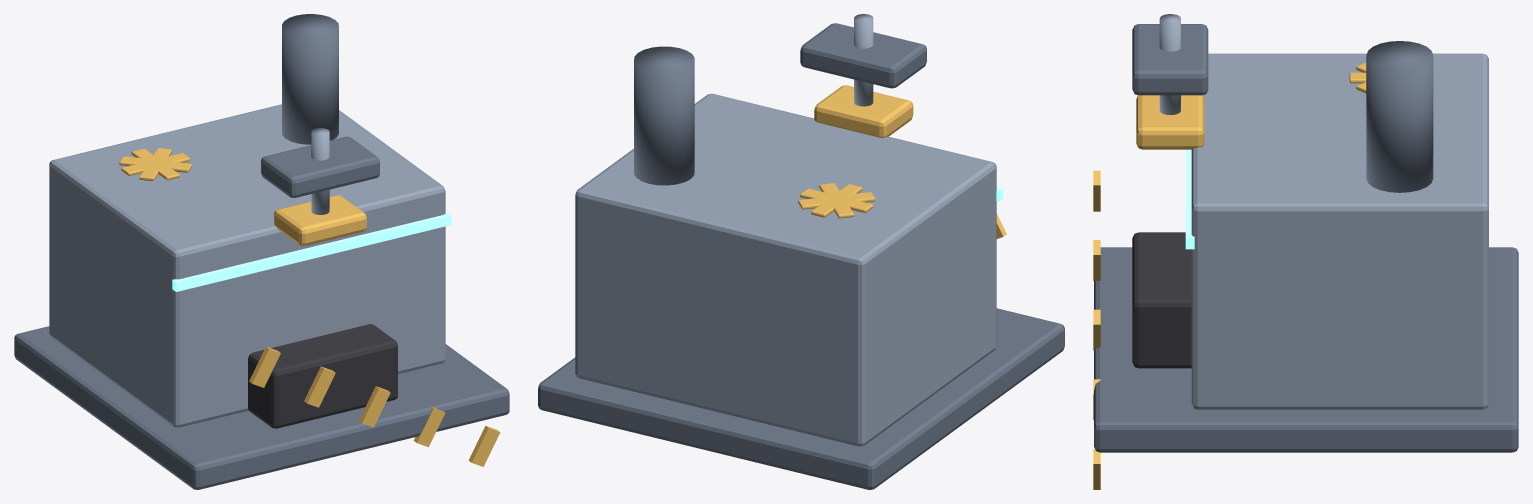
The model's file is ensambladora.glb.
3 renders of one model, left to right at view 1: azimuth 30°, elevation 25°; view 2: azimuth 150°, elevation 25°; view 3: azimuth 270°, elevation 25°, orthographic. The views are drawn at different scales.
Parts seen in each view (by area): view 1: cuerpo, base, boca, chimenea, soporte_piston, franja_neon, cabeza, vastago, raya_0, raya_4, raya_1, raya_2 (+2 smaller); view 2: cuerpo, base, chimenea, soporte_piston, cabeza, vastago, aspa_0, aspa_1; view 3: cuerpo, base, chimenea, boca, soporte_piston, cabeza, vastago, franja_neon.
Part boxes in pixels (x1=…): cuerpo: x1=49, y1=104, x2=445, y2=427; base: x1=14, y1=326, x2=509, y2=489; boca: x1=248, y1=324, x2=397, y2=428; chimenea: x1=282, y1=14, x2=338, y2=144; soporte_piston: x1=261, y1=136, x2=379, y2=197; franja_neon: x1=172, y1=212, x2=451, y2=291; cabeza: x1=274, y1=195, x2=366, y2=246; vastago: x1=311, y1=128, x2=329, y2=214; raya_0: x1=249, y1=346, x2=280, y2=387; raya_4: x1=468, y1=425, x2=500, y2=466; raya_1: x1=304, y1=366, x2=335, y2=407; raya_2: x1=359, y1=386, x2=390, y2=427; cuerpo: x1=575, y1=93, x2=996, y2=446; base: x1=538, y1=308, x2=1064, y2=489; chimenea: x1=634, y1=46, x2=694, y2=185; soporte_piston: x1=800, y1=23, x2=926, y2=88; cabeza: x1=814, y1=85, x2=913, y2=137; vastago: x1=854, y1=14, x2=873, y2=106; aspa_0: x1=800, y1=188, x2=873, y2=212; aspa_1: x1=798, y1=192, x2=875, y2=209; cuerpo: x1=1191, y1=53, x2=1488, y2=409; base: x1=1094, y1=247, x2=1518, y2=452; chimenea: x1=1366, y1=41, x2=1433, y2=192; boca: x1=1132, y1=232, x2=1191, y2=368; soporte_piston: x1=1132, y1=24, x2=1208, y2=95; cabeza: x1=1136, y1=95, x2=1204, y2=149; vastago: x1=1159, y1=14, x2=1180, y2=114; franja_neon: x1=1185, y1=149, x2=1194, y2=249.
Bounding box in the file's own units: 2.8 × 2.99 × 2.8.
